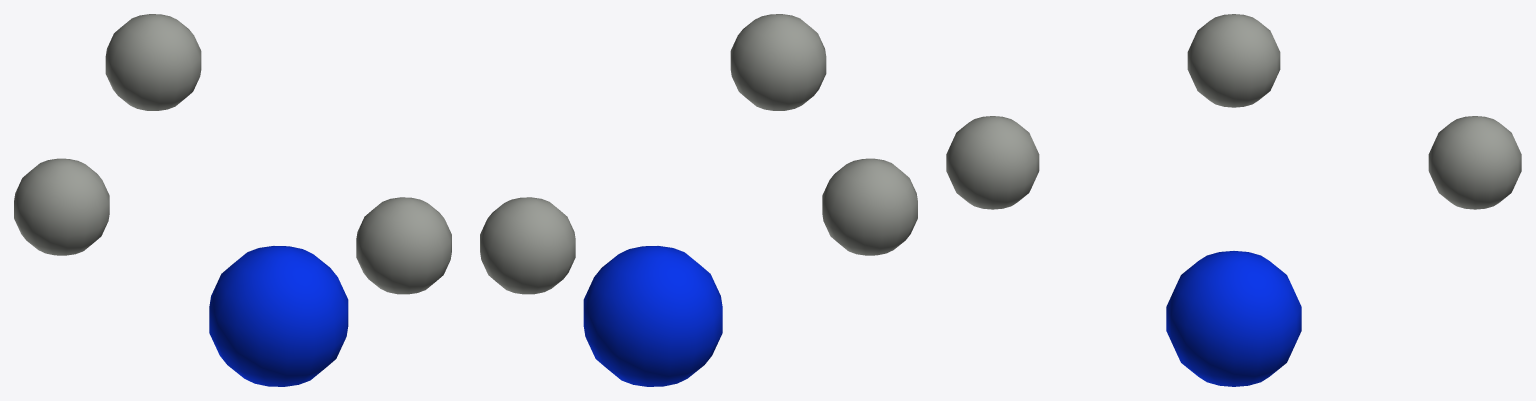
The model's file is NH3 Molekül Animation.gltf.
The picture shows the model from 3 angles, left to right: view 1: azimuth 30°, elevation 25°; view 2: azimuth 150°, elevation 25°; view 3: azimuth 270°, elevation 25°; orthographic projection. The views are drawn at different scales.
Visible parts, largest first — view 1: Stickstoff-Atom, Wasserstoff-Atom1, Wasserstoff-Atom2, Wasserstoff-Atom3; view 2: Stickstoff-Atom, Wasserstoff-Atom2, Wasserstoff-Atom1, Wasserstoff-Atom3; view 3: Stickstoff-Atom, Wasserstoff-Atom1, Wasserstoff-Atom2, Wasserstoff-Atom3.
Part boxes in pixels (x1,y1,x2,y2): Stickstoff-Atom: [209, 246, 348, 386]; Wasserstoff-Atom1: [105, 14, 201, 110]; Wasserstoff-Atom2: [356, 197, 451, 294]; Wasserstoff-Atom3: [14, 158, 109, 255]; Stickstoff-Atom: [583, 246, 722, 386]; Wasserstoff-Atom2: [730, 14, 826, 110]; Wasserstoff-Atom1: [480, 197, 575, 294]; Wasserstoff-Atom3: [822, 158, 917, 255]; Stickstoff-Atom: [1166, 251, 1301, 386]; Wasserstoff-Atom1: [1428, 116, 1521, 209]; Wasserstoff-Atom2: [946, 116, 1039, 209]; Wasserstoff-Atom3: [1187, 14, 1280, 107].
Bounding box in the file's own units: 5.16 × 4.19 × 8.35.
